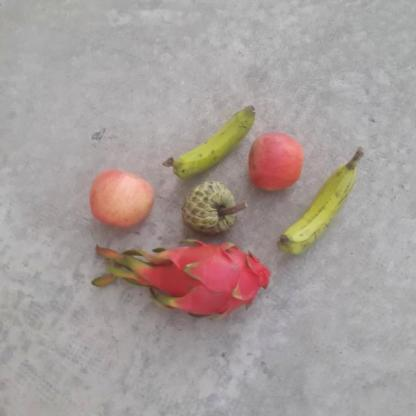annona: (181, 178, 239, 240)
apple: (89, 166, 154, 231), (242, 130, 305, 194)
banana: (280, 149, 362, 255), (164, 105, 258, 174)
pitaya: (140, 237, 275, 316)
